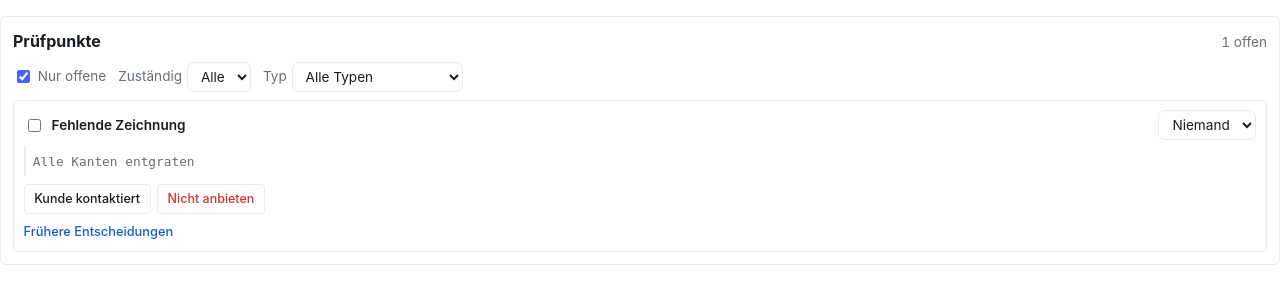
Test: ReviewItemsPanel › fetches prior decisions on demand (§6.4), not on load
Expected: the list item with test id "review-card" is shown, [13, 100, 1267, 252]
Click the button "Frühere Entscheidungen" at (98, 232), box [24, 222, 173, 241]
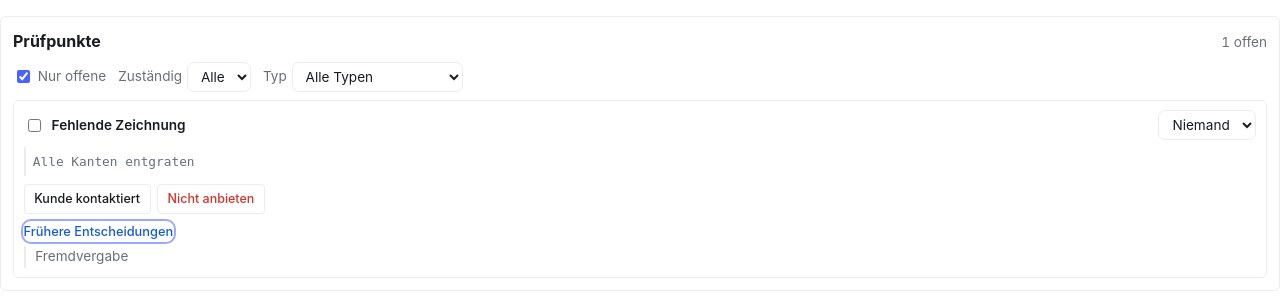
Now the list item "Fremdvergabe" is shown, box [35, 248, 128, 264]
